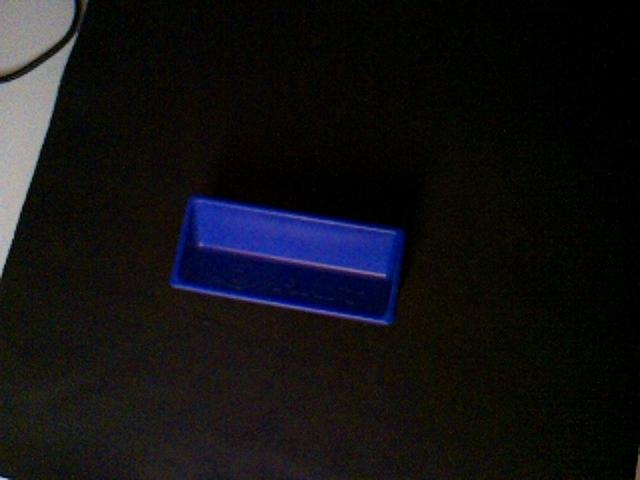blue: (168, 193, 408, 328)
